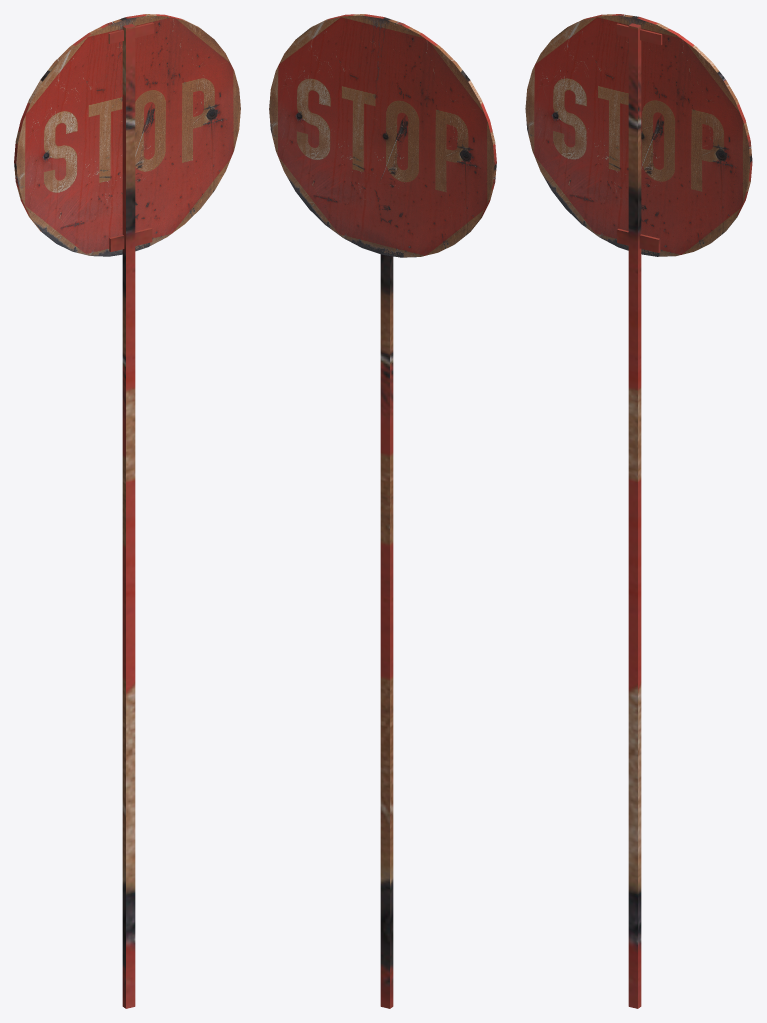
File: StopSign2.FBX
3 renders of one model, left to right at view 1: azimuth 30°, elevation 25°; view 2: azimuth 150°, elevation 25°; view 3: azimuth 330°, elevation 25°, orthographic.
Visible parts, largest first — view 1: Box003; view 2: Box003; view 3: Box003.
Part boxes in pixels (x1,y1,x2,y2): Box003: (14,14,240,1008); Box003: (269,14,496,1008); Box003: (525,14,752,1008).
Bounding box in the file's own units: 60.46 × 254 × 2.58.
Materials: 1 (1 with a texture image).
